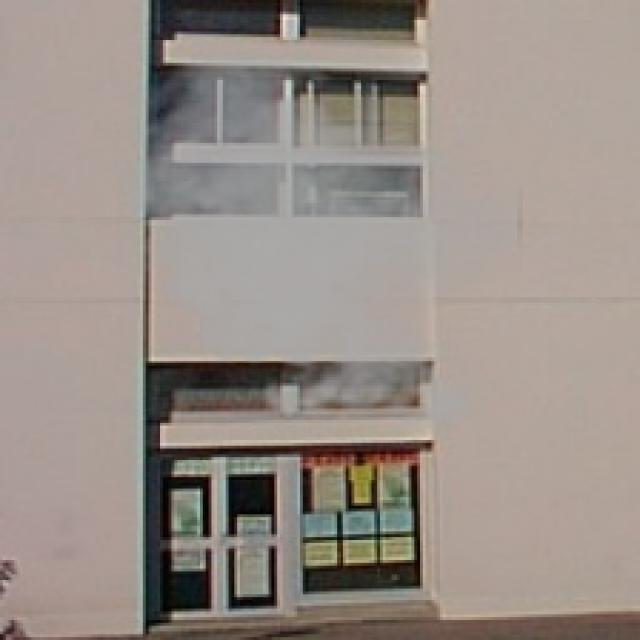Smoke: (103, 40, 523, 443)
